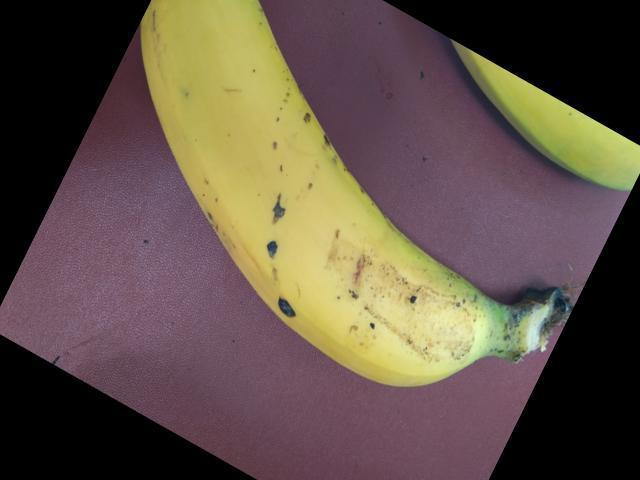ripe: (125, 0, 496, 376)
